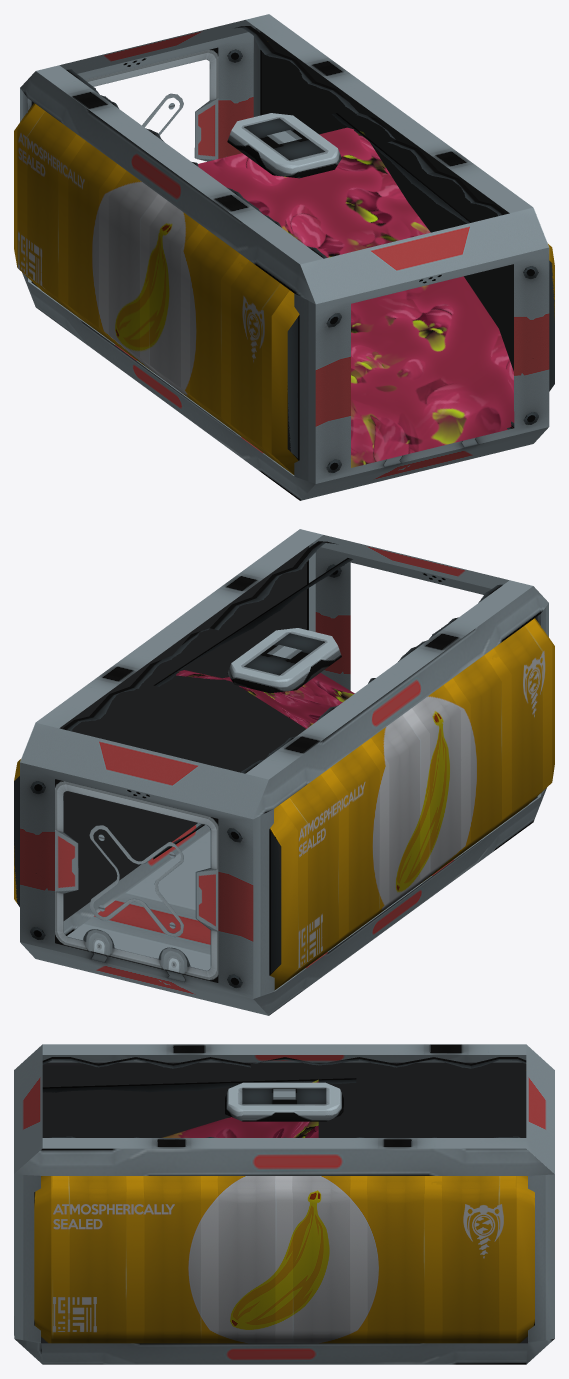
File: env_building_container_beetroot_lod2.fbx
3 views of the same model, one above another, from view 1: azimuth 30°, elevation 25°; view 2: azimuth 150°, elevation 25°; view 3: azimuth 270°, elevation 25° (orthographic). The views are drawn at different scales.
Parts seen in each view (by area): view 1: env_building_container_beetroot_lod2; view 2: env_building_container_beetroot_lod2; view 3: env_building_container_beetroot_lod2.
Part boxes in pixels (<box>): env_building_container_beetroot_lod2: <box>14,14,554,500</box>; env_building_container_beetroot_lod2: <box>14,529,554,1015</box>; env_building_container_beetroot_lod2: <box>14,1044,554,1364</box>.
Bounding box in the file's own units: 19.98 × 16.24 × 36.48.
